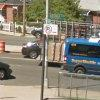Bus: (62, 33, 100, 84)
